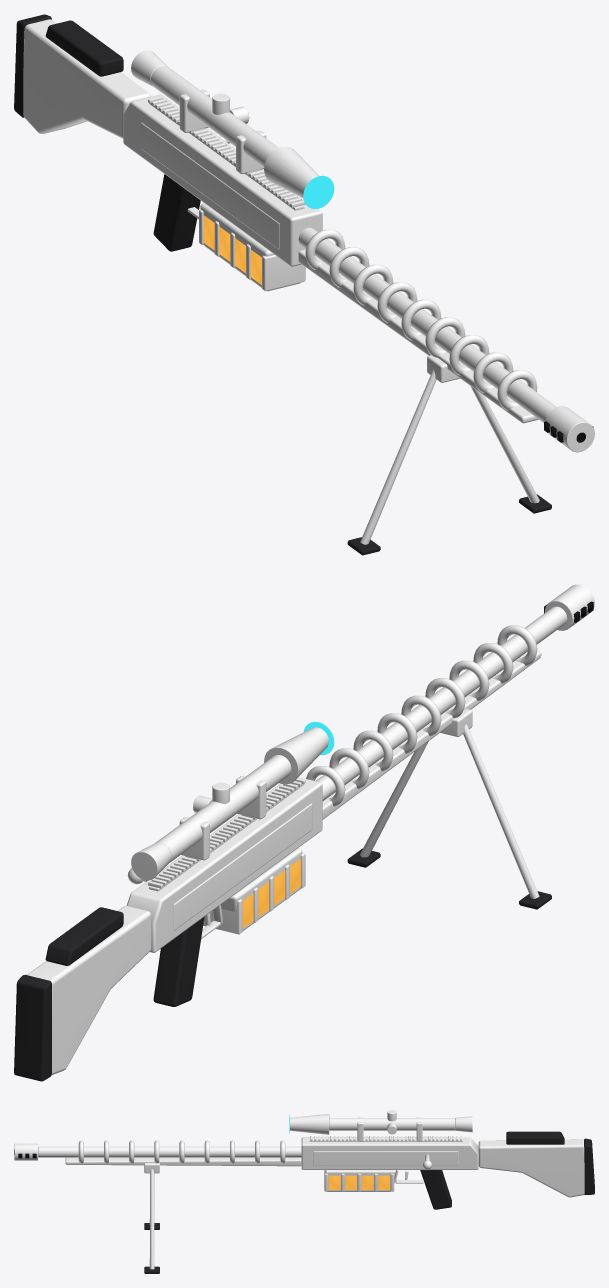
The model's file is sniper.glb.
The picture shows the model from 3 angles, top to bottom: view 1: azimuth 30°, elevation 25°; view 2: azimuth 150°, elevation 25°; view 3: azimuth 270°, elevation 25°; orthographic projection. The views are drawn at different scales.
Parts seen in each view (by area): view 1: stock, receiver, barrel, receiver_inlay, scope_tube, barrel_frame, grip, cheek_rest, rail_teeth, scope_bell, bipod_leg, muzzle (+12 smaller); view 2: stock, receiver, barrel, receiver_inlay, butt_pad, scope_tube, grip, cheek_rest, barrel_frame, rail_teeth, scope_bell, bipod_leg (+13 smaller); view 3: stock, receiver, barrel, receiver_inlay, barrel_frame, scope_tube, grip, cheek_rest, scope_bell, capacitor, butt_pad, bipod_leg.001 (+4 smaller).
Boxes of the visible parts, <box> form: stock: <box>23,19,150,138</box>; receiver: <box>123,94,322,266</box>; barrel: <box>298,227,556,422</box>; receiver_inlay: <box>141,122,279,249</box>; scope_tube: <box>151,66,278,167</box>; barrel_frame: <box>298,249,538,423</box>; grip: <box>153,174,200,251</box>; cheek_rest: <box>45,20,123,76</box>; rail_teeth: <box>148,96,305,207</box>; scope_bell: <box>264,146,319,197</box>; bipod_leg: <box>360,370,436,544</box>; muzzle: <box>545,406,594,452</box>; stock: <box>27,906,151,1074</box>; receiver: <box>126,777,322,952</box>; barrel: <box>315,606,567,800</box>; receiver_inlay: <box>173,803,312,930</box>; butt_pad: <box>14,974,51,1081</box>; scope_tube: <box>155,755,291,862</box>; grip: <box>153,916,204,1006</box>; cheek_rest: <box>45,907,123,965</box>; barrel_frame: <box>322,651,541,819</box>; rail_teeth: <box>148,778,305,888</box>; scope_bell: <box>264,727,328,784</box>; bipod_leg: <box>463,724,539,898</box>; stock: <box>478,1139,584,1197</box>; receiver: <box>301,1137,478,1169</box>; barrel: <box>38,1146,301,1157</box>; receiver_inlay: <box>313,1151,458,1165</box>; barrel_frame: <box>65,1157,301,1166</box>; scope_tube: <box>329,1118,454,1130</box>; grip: <box>420,1170,451,1209</box>; cheek_rest: <box>506,1131,564,1144</box>; scope_bell: <box>290,1114,329,1134</box>; capacitor: <box>325,1170,395,1191</box>; butt_pad: <box>584,1138,594,1194</box>; bipod_leg.001: <box>149,1169,154,1269</box>.
Bounding box in the file's own units: 0.294 × 0.387 × 1.48.
